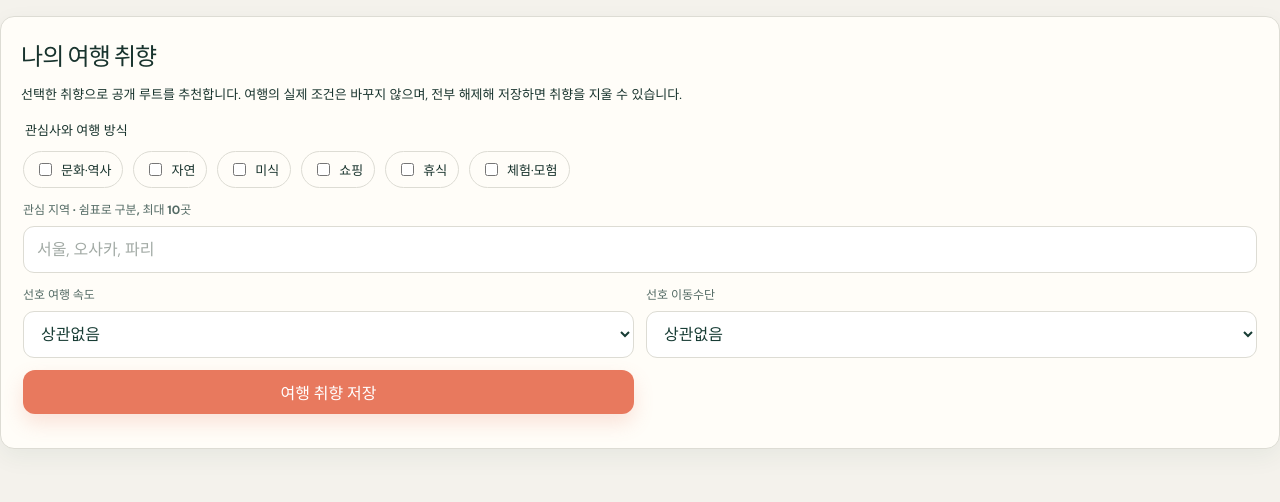
Scenario: live data and community › saves explicit interests and lets the user clear them
The image size is (1280, 502).
Click the checkbox labelled "미식" at (240, 170), box [233, 163, 246, 176]
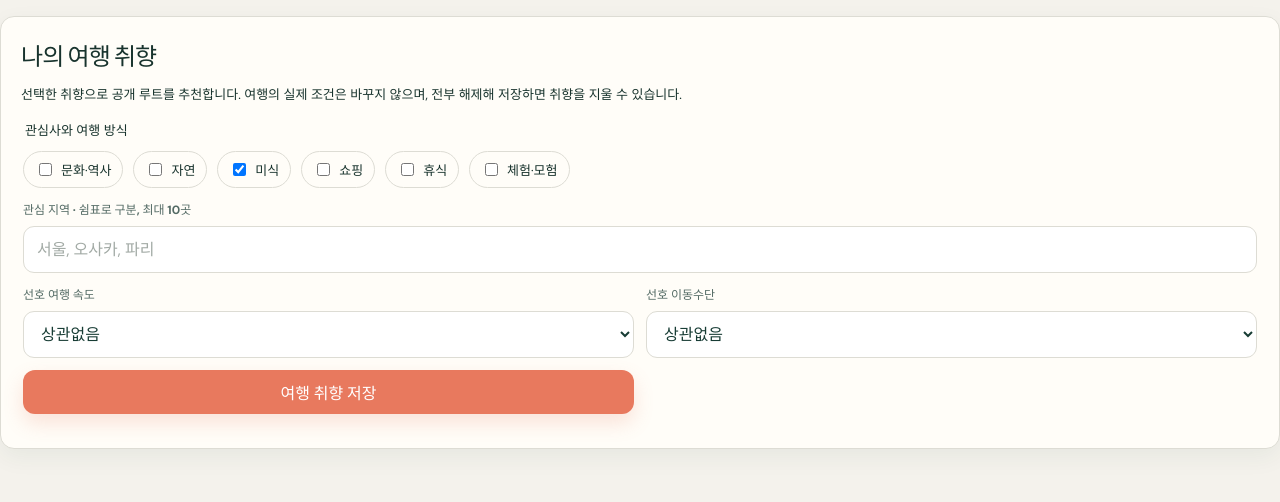
Type "서울, 오사카" into the field labelled "관심 지역 · 쉼표로 구분, 최대 10곳" at (640, 250), box [23, 226, 1257, 273]
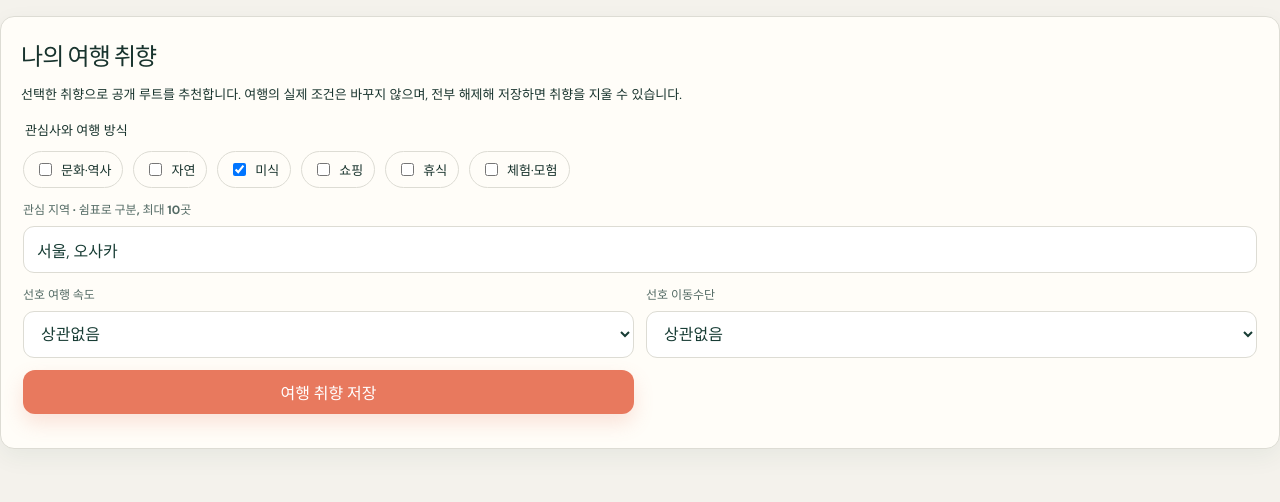
Click the button "여행 취향 저장" at (328, 392), box [23, 370, 634, 414]
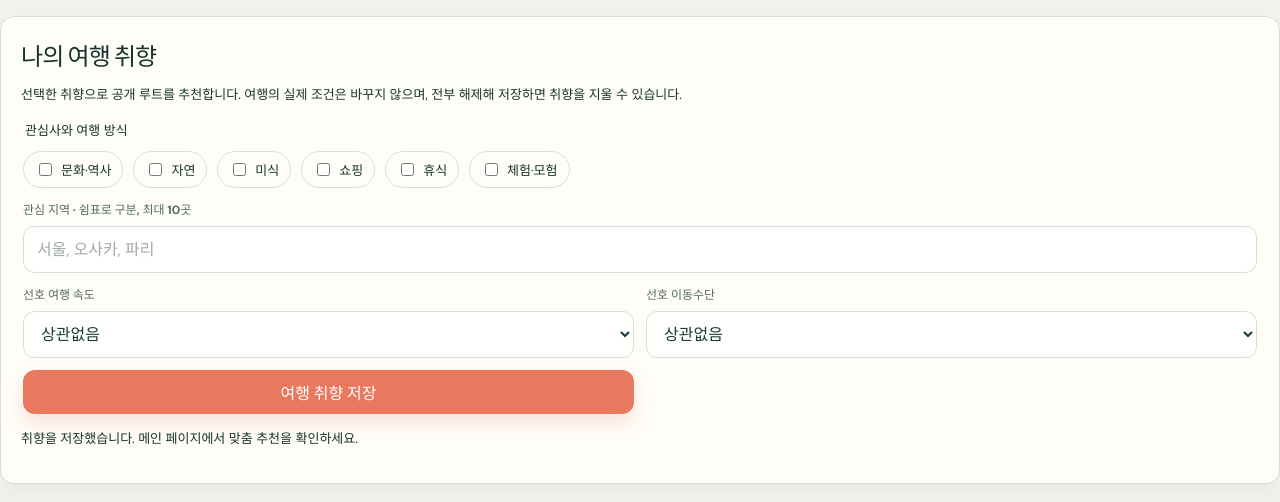
Check: the text "취향을 저장했습니다. 메인 페이지에서 맞춤 추천을 확인하세요." is shown, box [21, 430, 358, 447]
